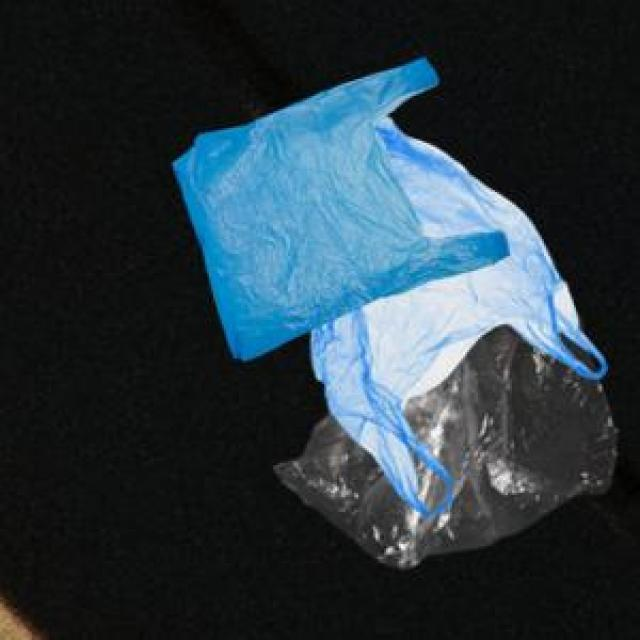waste: (174, 58, 616, 568)
